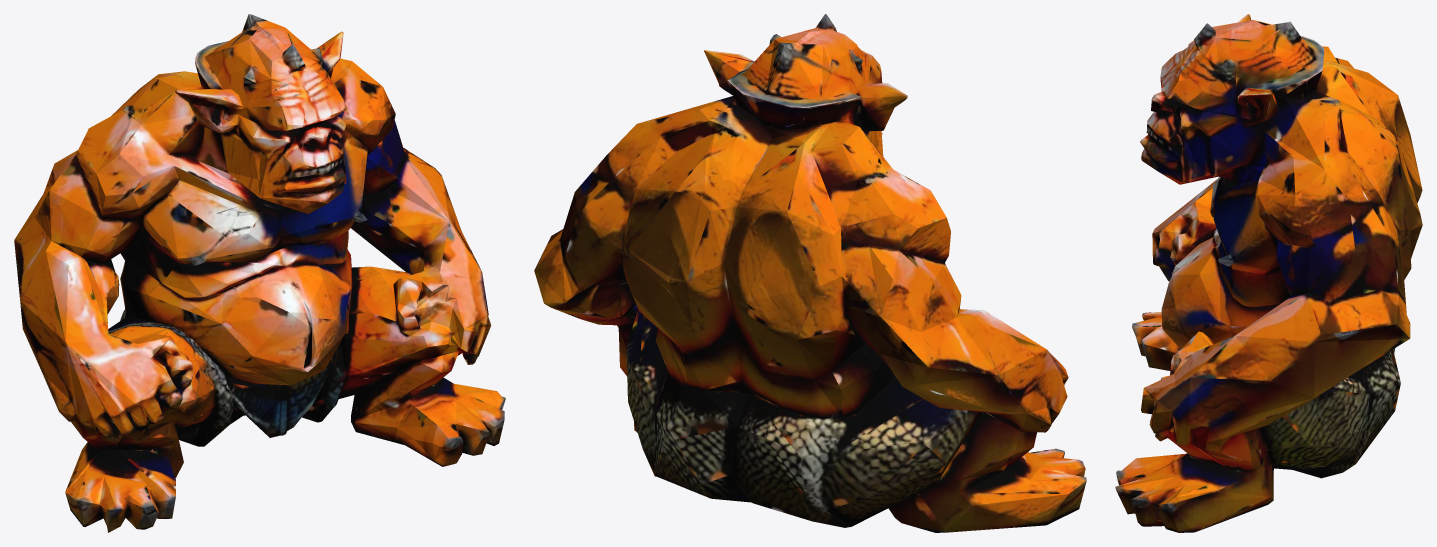
File: landmark_ogre_idol_01.glb
3 renders of one model, left to right at view 1: azimuth 30°, elevation 25°; view 2: azimuth 150°, elevation 25°; view 3: azimuth 270°, elevation 25°, orthographic. The views are drawn at different scales.
Visible parts, largest first — view 1: geometry_0; view 2: geometry_0; view 3: geometry_0.
Part boxes in pixels (x1,y1,x2,y2): geometry_0: (14, 14, 505, 532); geometry_0: (534, 14, 1086, 532); geometry_0: (1115, 14, 1422, 532).
Size of the model in its own units: 0.9974 by 0.9317 by 0.6113.
1 material, 1 textured.
